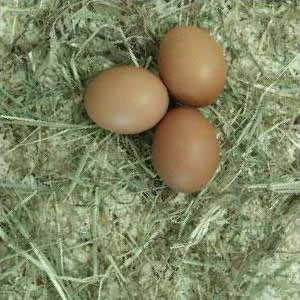egg: (151, 108, 219, 194), (85, 66, 169, 135), (159, 26, 227, 107)
